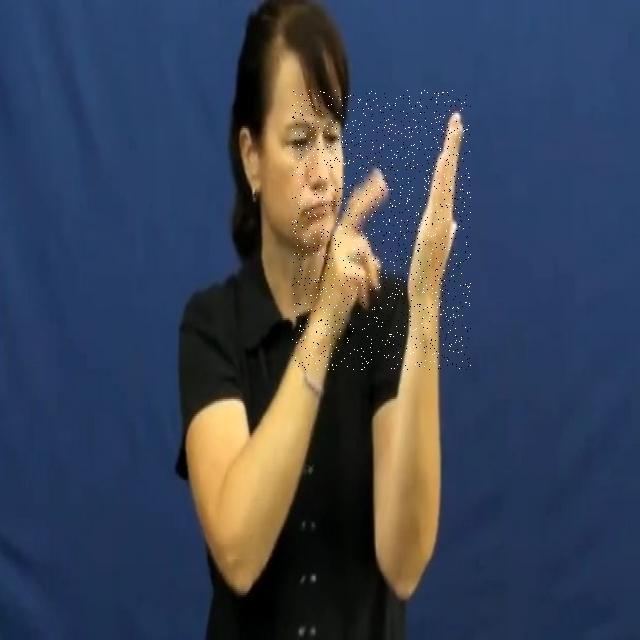menu: (292, 90, 471, 370)
